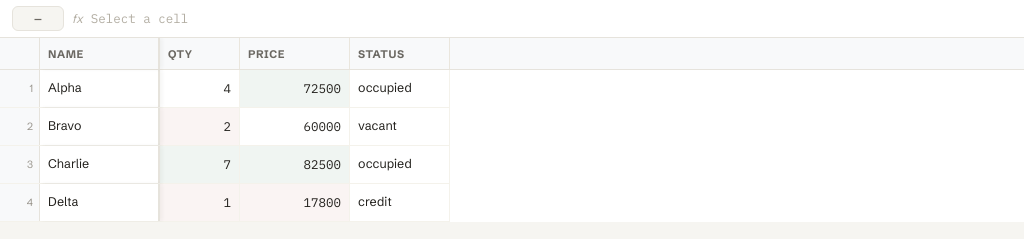
Test: SpreadsheetEngine › double-clicking a cell enters edit mode
Double-click the cell "Alpha" at (100, 89), box [40,70,160,107]
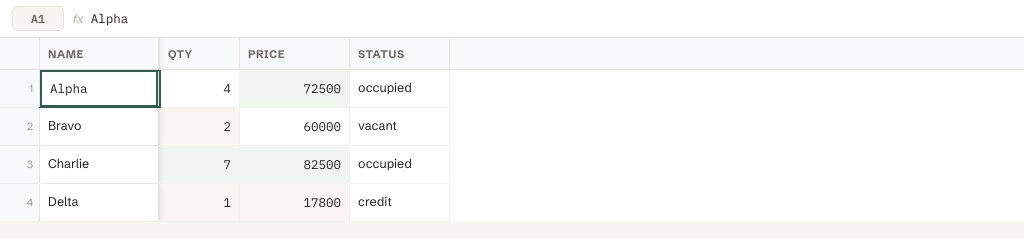
Now the field named "Cell editor" holds "Alpha", box [40,70,158,107]
